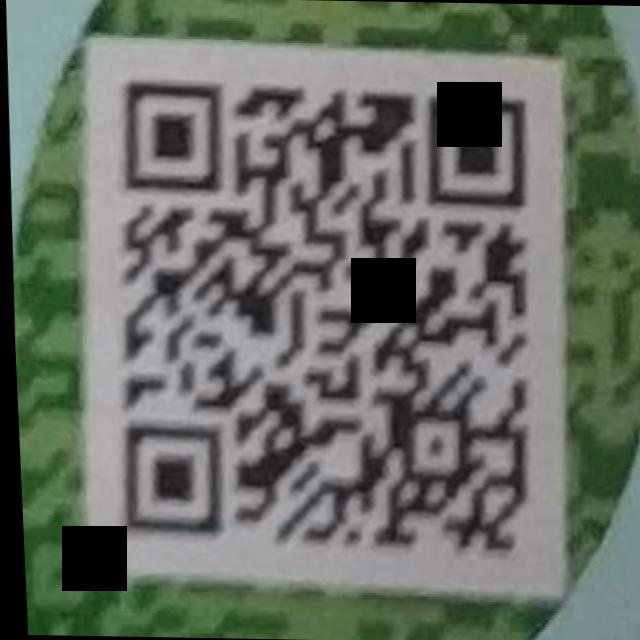QR_CODE: (65, 39, 577, 593)
